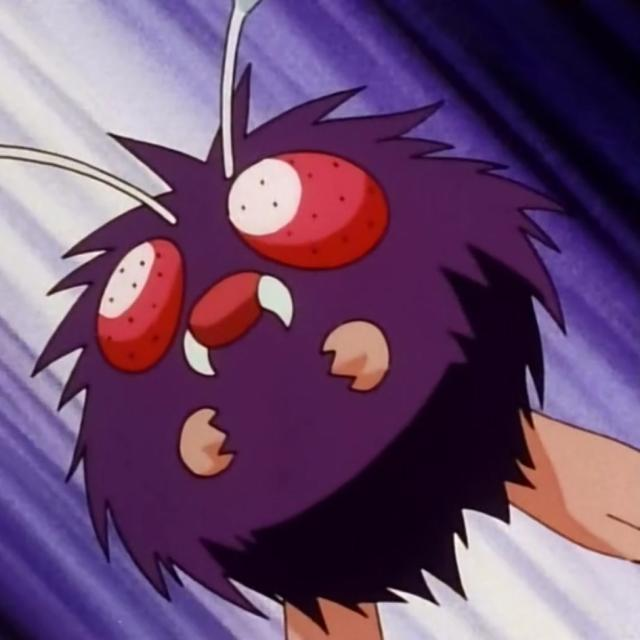Venonat: (61, 102, 555, 618)
